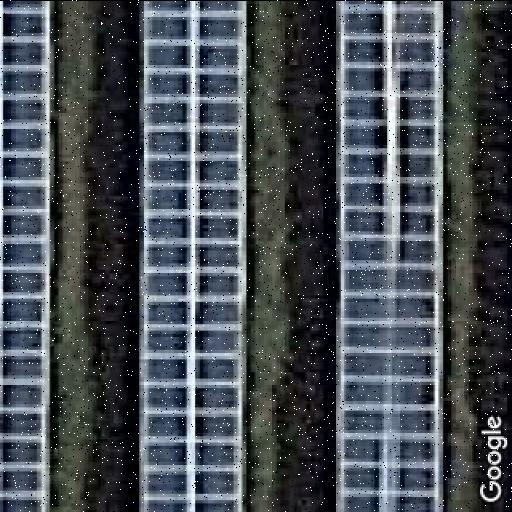solar-panel: (140, 0, 246, 512), (338, 0, 440, 512), (0, 0, 54, 512)
